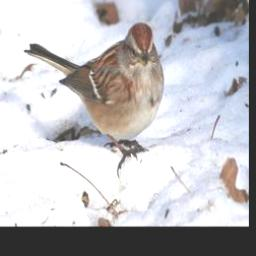Sparrow: (21, 16, 166, 181)
